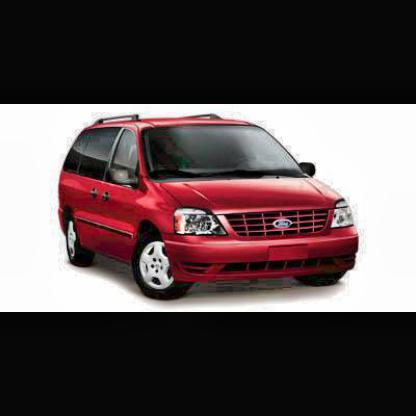Ford Freestar Minivan 2007: (60, 116, 361, 298)
